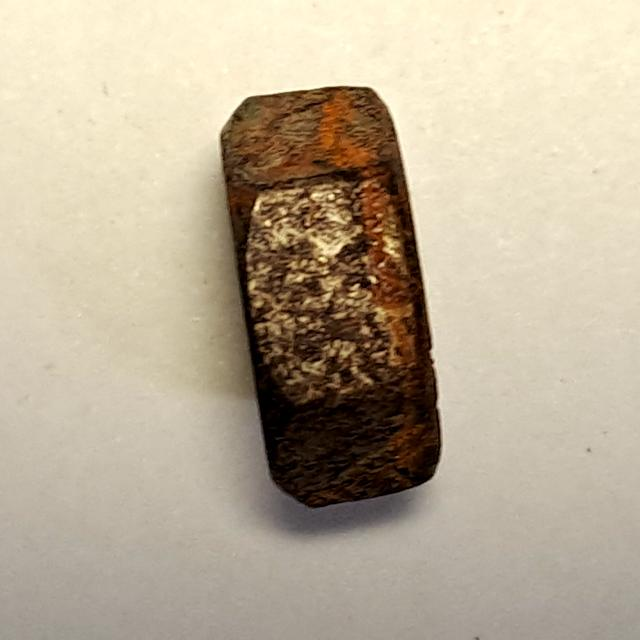Side_Rust: (203, 77, 460, 517)
